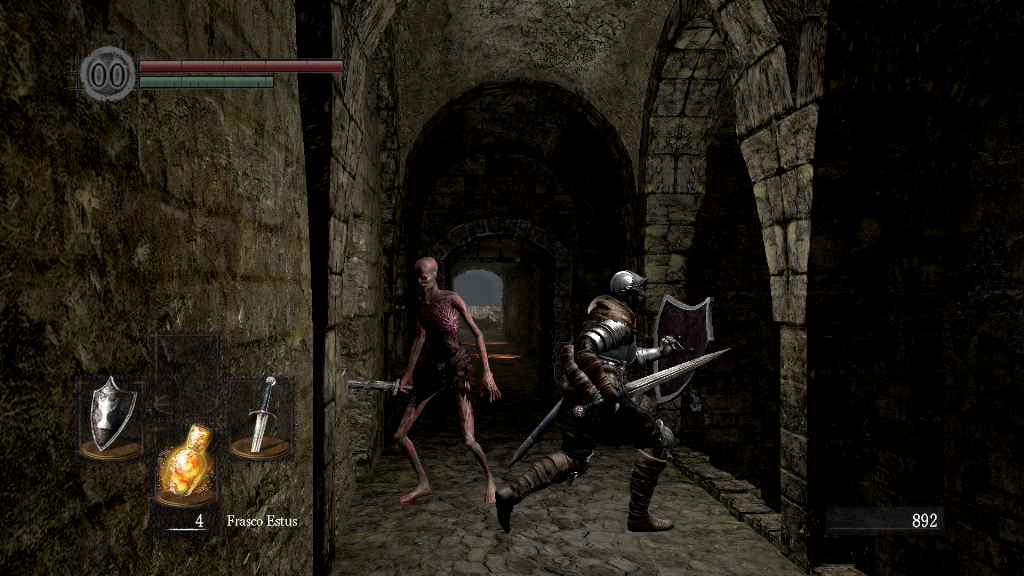health: (138, 58, 343, 71)
hollow: (395, 255, 503, 510)
humanity: (80, 45, 136, 102)
player: (492, 269, 733, 537)
souls: (825, 506, 945, 536)
stamina: (138, 74, 274, 88)
